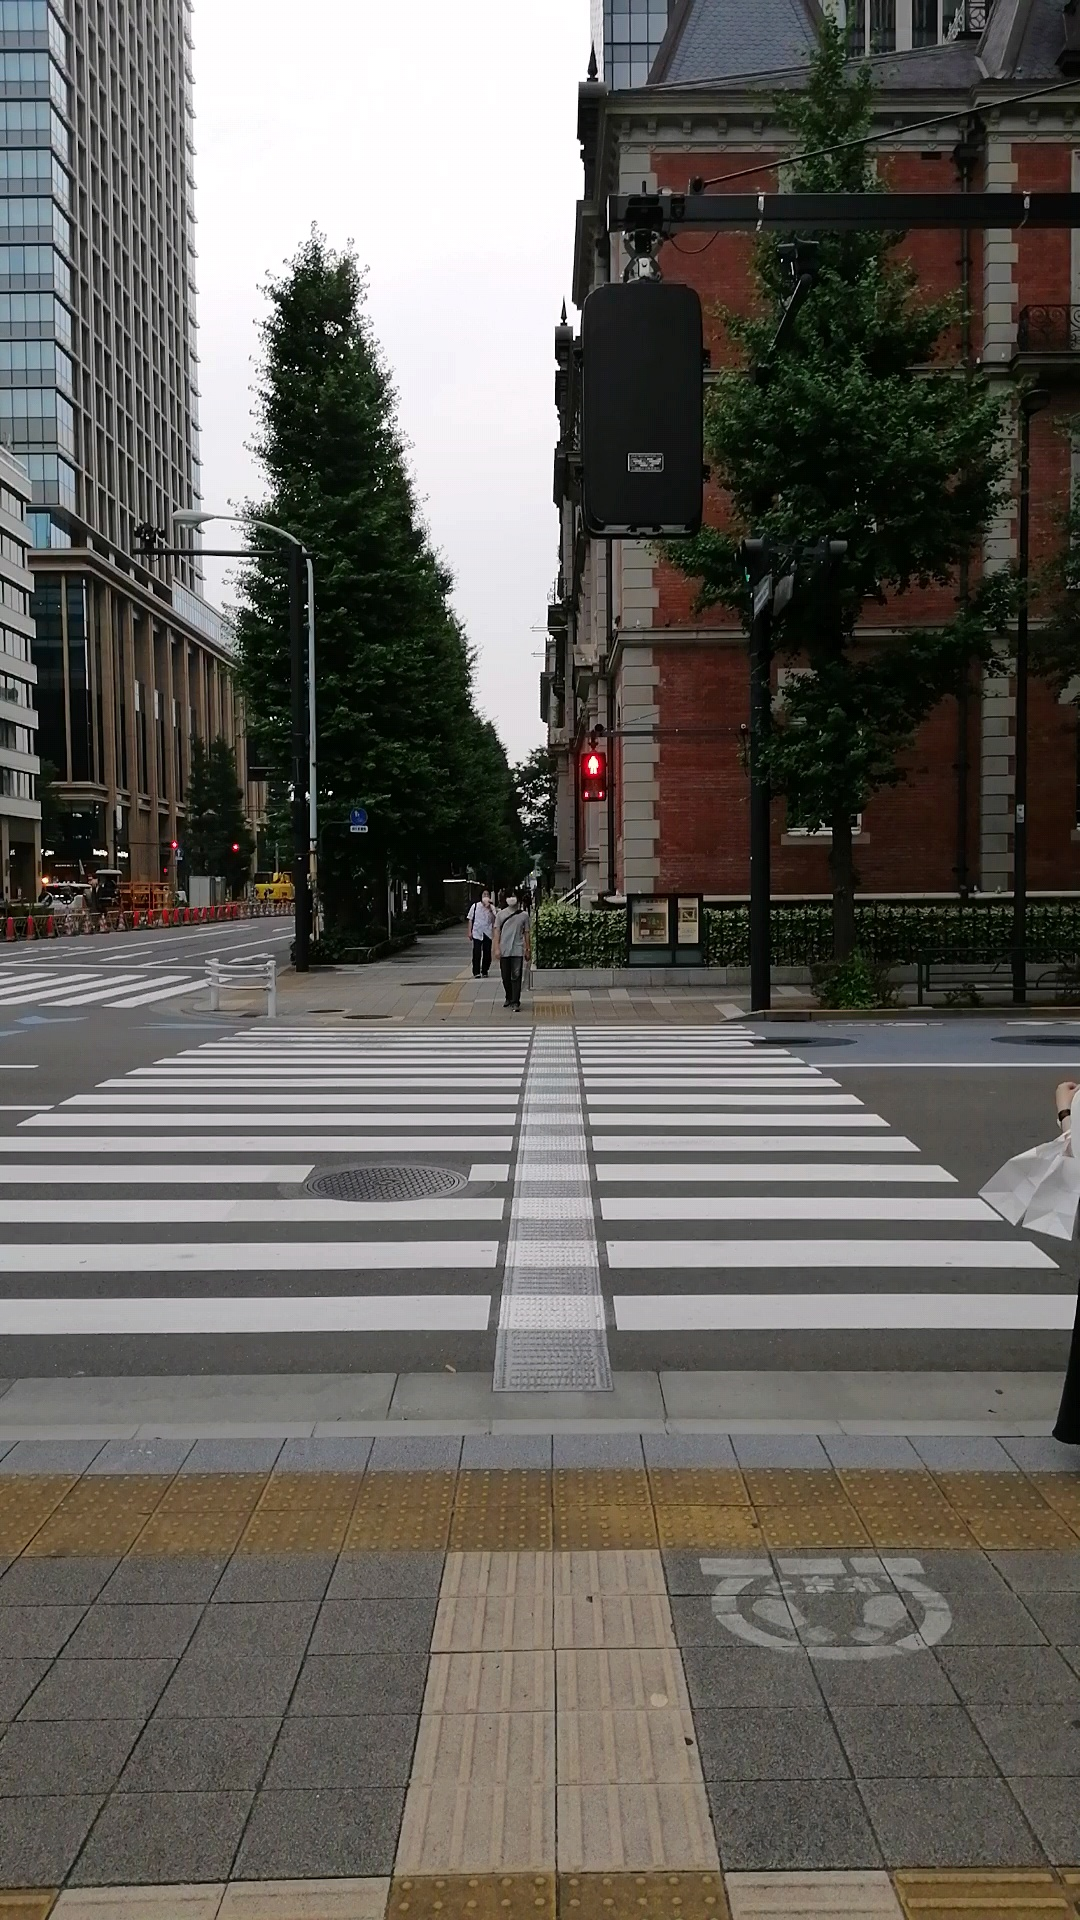red: (576, 750, 608, 802)
